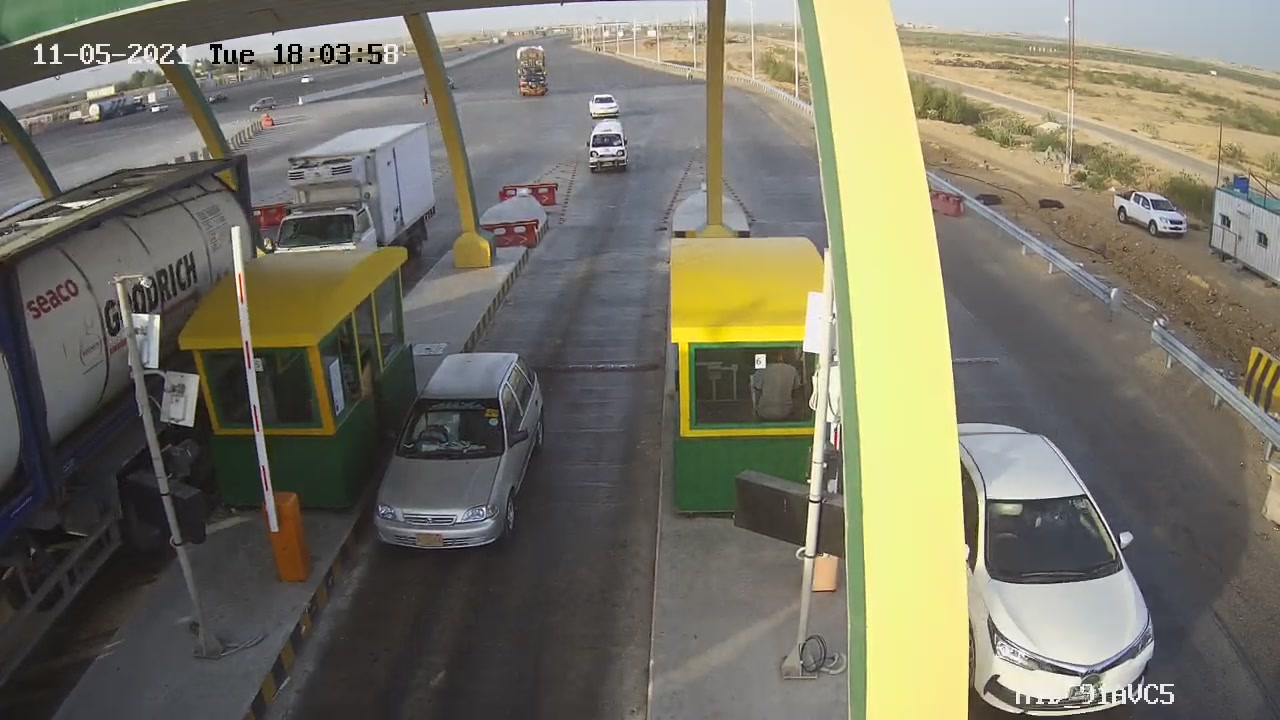F1: (355, 335, 568, 574)
